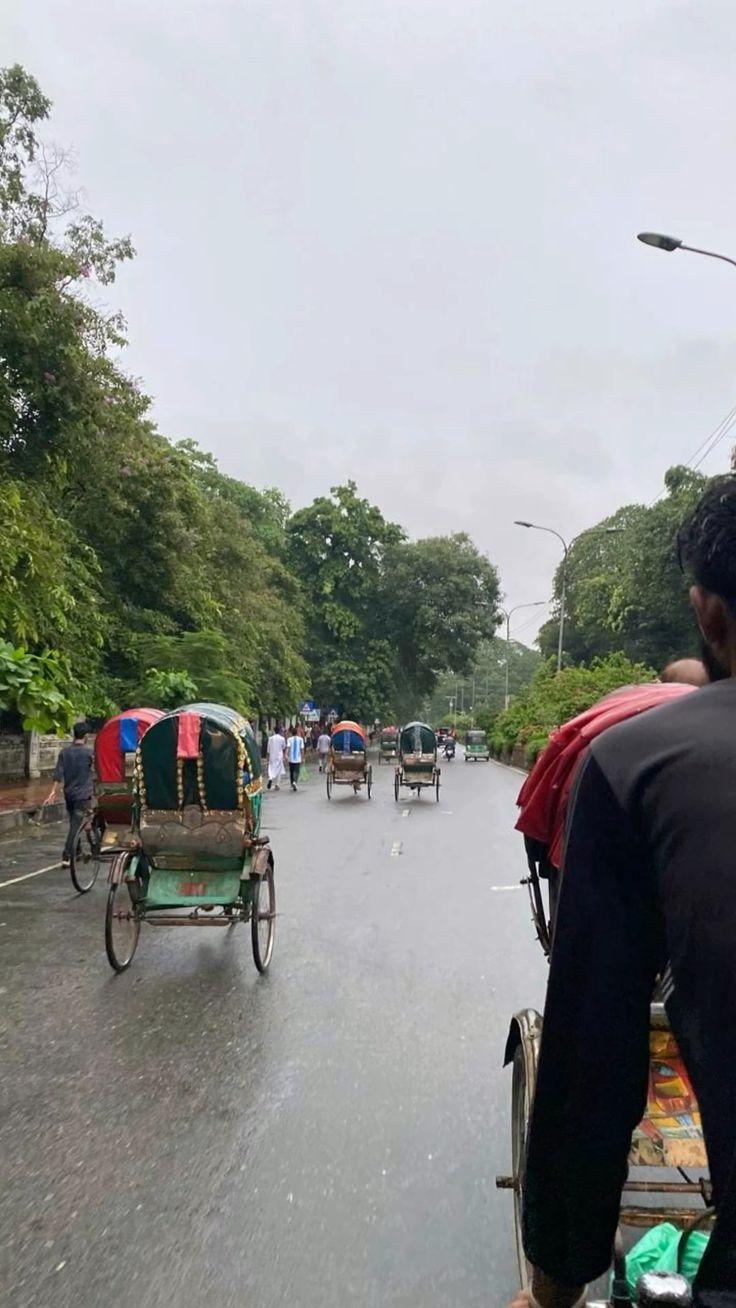Rickshaw: (517, 685, 690, 953), (105, 703, 274, 971), (70, 707, 162, 892), (394, 721, 440, 800), (326, 720, 371, 798), (464, 729, 489, 761), (379, 726, 398, 763)
